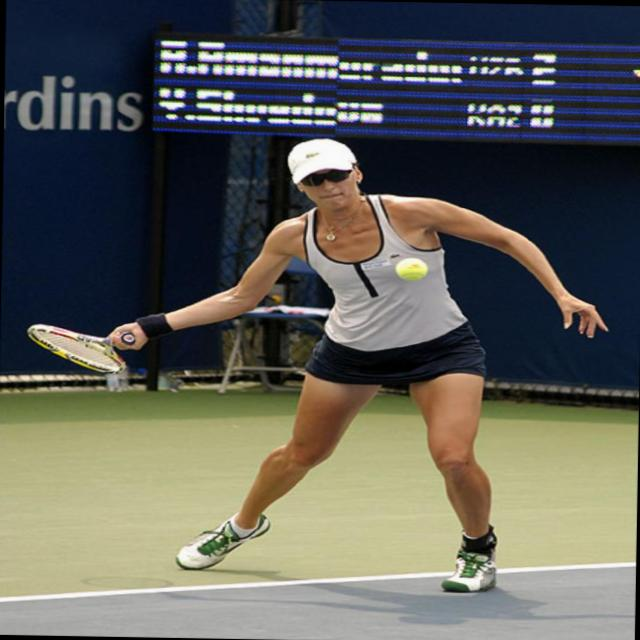Tennis ball: (393, 254, 427, 280)
